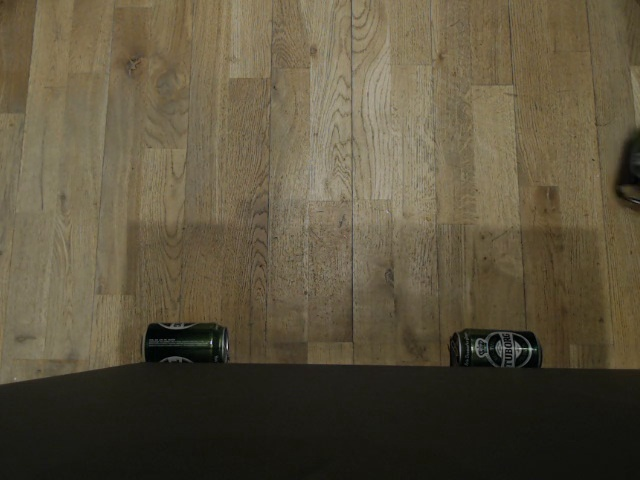beer: (138, 318, 230, 366), (446, 329, 545, 369), (614, 131, 640, 203)
